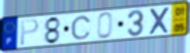0: (96, 11, 116, 41)
3: (126, 9, 145, 38)
8: (43, 15, 62, 46)
C: (70, 15, 93, 41)
P: (19, 18, 41, 47)
X: (148, 6, 171, 36)
